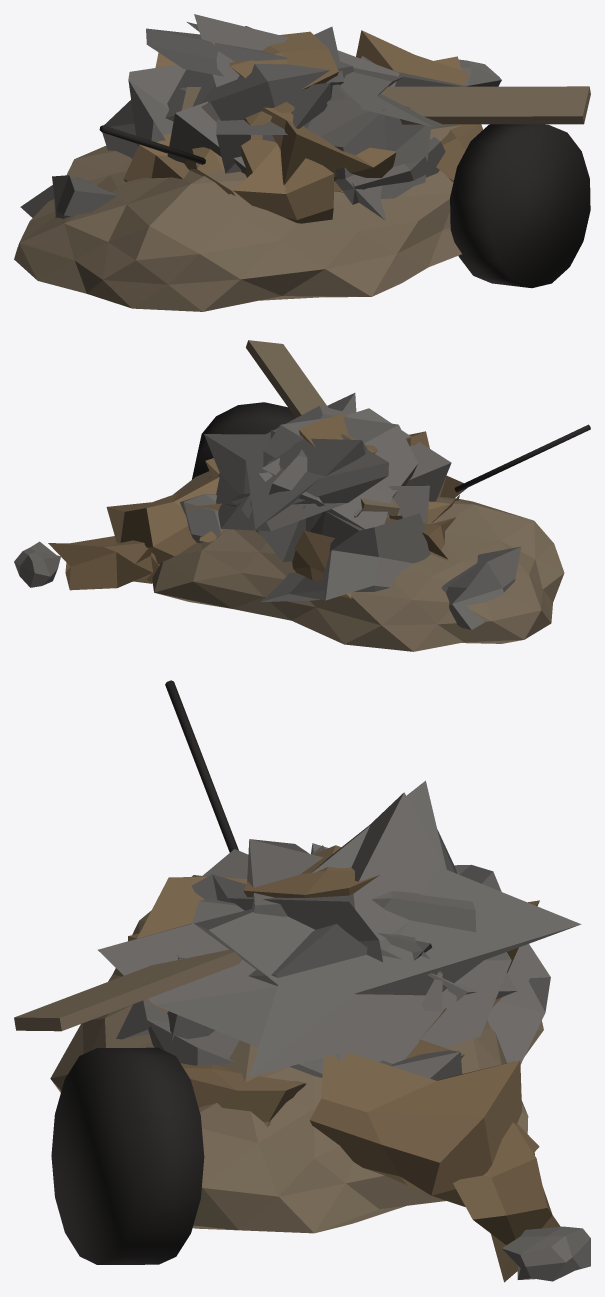
File: cover_rubble_4.glb
3 renders of one model, top to bottom at view 1: azimuth 30°, elevation 25°; view 2: azimuth 150°, elevation 25°; view 3: azimuth 270°, elevation 25°, orthographic. The views are drawn at different scales.
Parts seen in each view (by area): view 1: mound, tyre, plank, slab, lump_10, lump_31, lump_14, lump_2, lump_13, lump_9, lump_16, lump_19 (+10 smaller); view 2: mound, slab, lump_13, lump_31, lump_2, lump_19, lump_4, lump_3, plank, lump_16, tyre, lump_30 (+7 smaller); view 3: slab, tyre, mound, lump_19, lump_2, lump_4, plank, lump_31, lump_16, lump_13, lump_36, lump_21 (+7 smaller).
Part boxes in pixels (bbox=[...]): mound: bbox=[14, 125, 461, 311]; tyre: bbox=[450, 124, 590, 288]; plank: bbox=[181, 86, 590, 124]; slab: bbox=[146, 22, 467, 127]; lump_10: bbox=[233, 139, 334, 223]; lump_31: bbox=[165, 26, 353, 121]; lump_14: bbox=[322, 106, 431, 219]; lump_2: bbox=[167, 14, 399, 192]; lump_13: bbox=[102, 64, 186, 158]; lump_9: bbox=[262, 107, 396, 191]; lump_16: bbox=[216, 26, 344, 173]; lump_19: bbox=[356, 30, 469, 85]; mound: bbox=[152, 471, 564, 651]; slab: bbox=[204, 393, 388, 531]; lump_13: bbox=[260, 511, 430, 601]; lump_31: bbox=[256, 414, 417, 534]; lump_2: bbox=[241, 430, 429, 562]; lump_19: bbox=[106, 475, 219, 564]; lump_4: bbox=[48, 536, 159, 590]; lump_3: bbox=[441, 546, 521, 629]; plank: bbox=[246, 340, 399, 515]; lump_16: bbox=[263, 408, 451, 501]; tyre: bbox=[192, 402, 295, 479]; lump_30: bbox=[292, 530, 351, 598]; slab: bbox=[98, 780, 581, 1076]; tyre: bbox=[51, 1047, 204, 1264]; mound: bbox=[50, 875, 543, 1233]; lump_19: bbox=[309, 1053, 521, 1207]; lump_2: bbox=[249, 792, 517, 1001]; lump_4: bbox=[453, 1122, 560, 1282]; plank: bbox=[14, 949, 242, 1031]; lump_31: bbox=[247, 839, 476, 932]; lump_16: bbox=[191, 849, 382, 962]; lump_13: bbox=[454, 864, 550, 1064]; lump_36: bbox=[180, 1063, 306, 1127]; lump_21: bbox=[502, 1226, 590, 1281].
Bounding box in the file's own units: 2.46 × 1.05 × 1.7.
